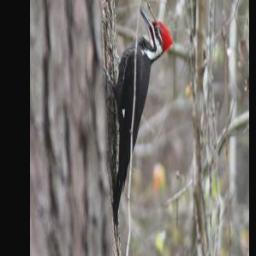Woodpecker: (103, 8, 176, 235)
